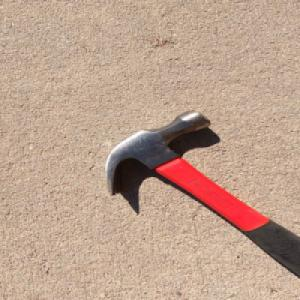Hammer: (101, 109, 300, 279)
